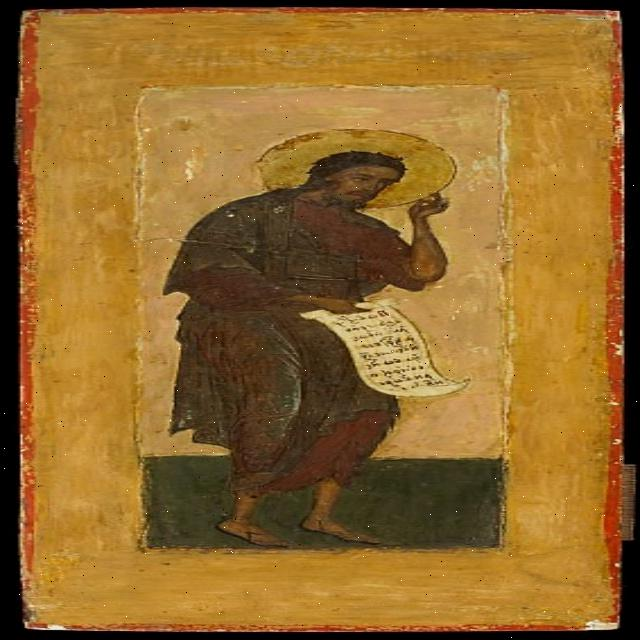aura: (248, 126, 461, 210)
saint: (151, 117, 473, 552)
scroll: (287, 297, 474, 405)
